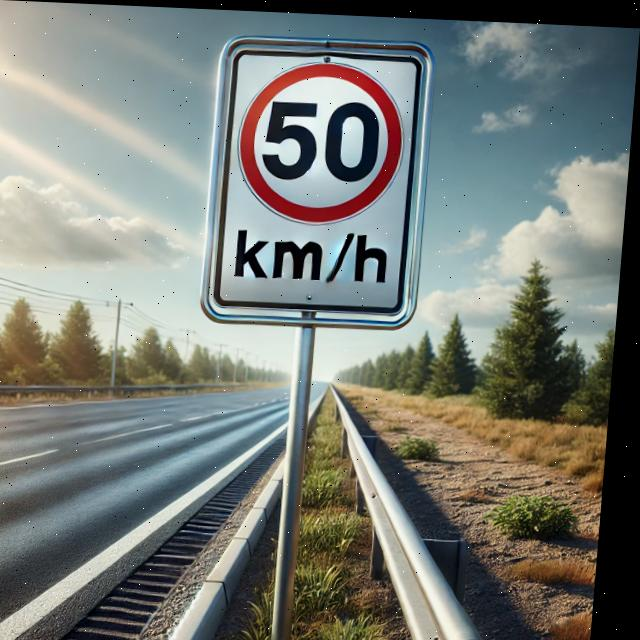Speed limit 50: (235, 55, 412, 226)
